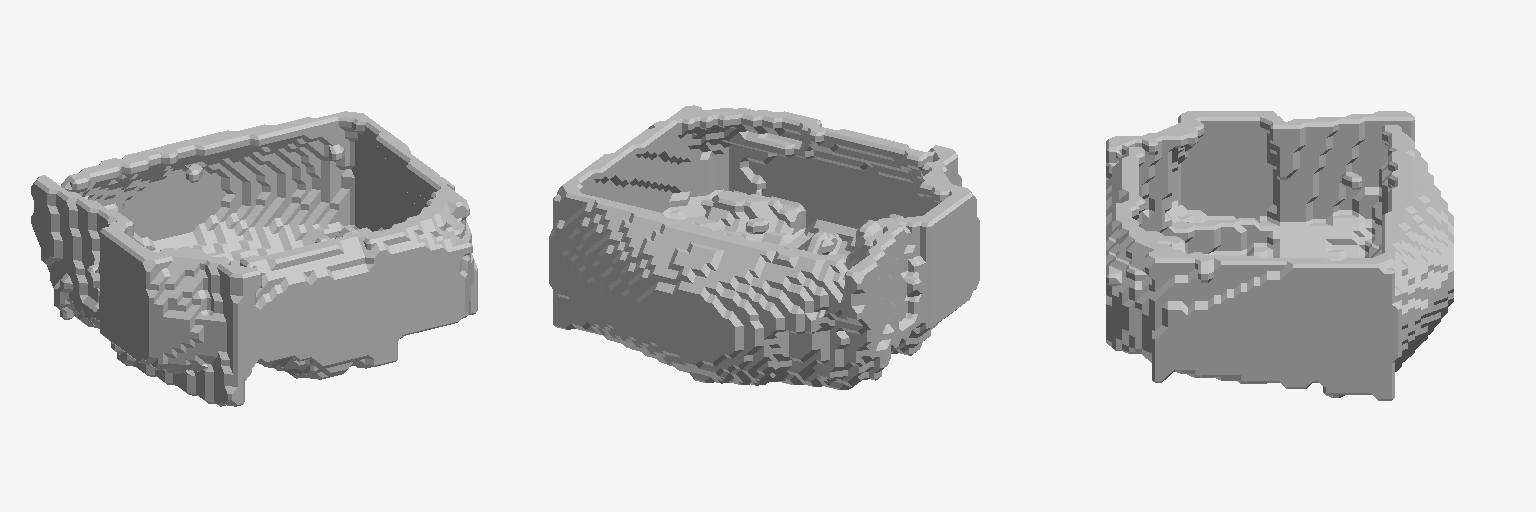
The model's file is Input_surface_mesh.obj.
3 views of the same model, side by side, from view 1: azimuth 30°, elevation 25°; view 2: azimuth 150°, elevation 25°; view 3: azimuth 270°, elevation 25° (orthographic).
Bounding box in the file's own units: 4.48 × 1.84 × 4.24.